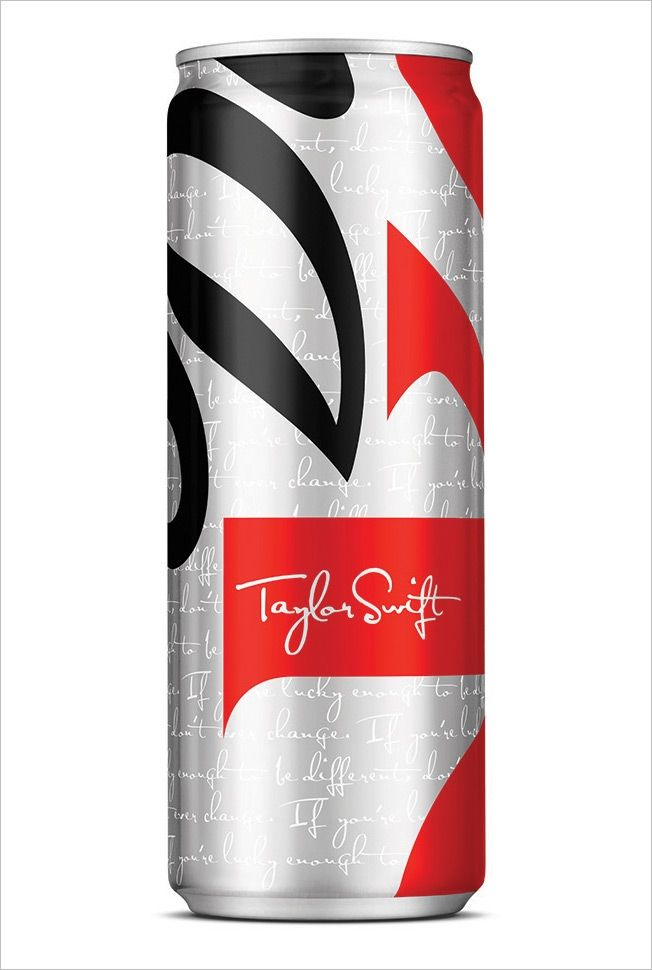can: (149, 22, 497, 947)
